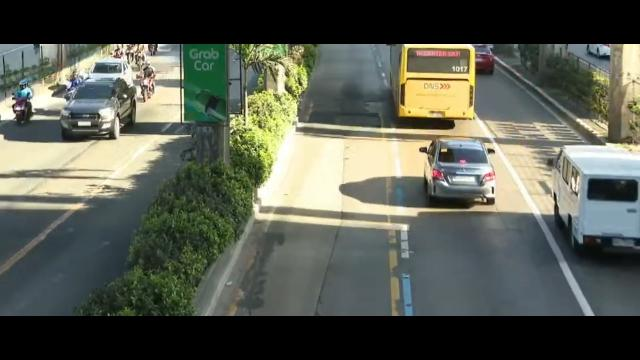bus: (388, 45, 481, 127)
car: (409, 135, 500, 217), (88, 55, 133, 84), (473, 42, 505, 79)
motorcycle: (11, 78, 35, 128), (141, 61, 156, 101), (71, 66, 88, 95), (133, 47, 152, 66), (124, 43, 140, 60), (110, 43, 121, 59)
pickup-truck: (60, 77, 140, 145)
